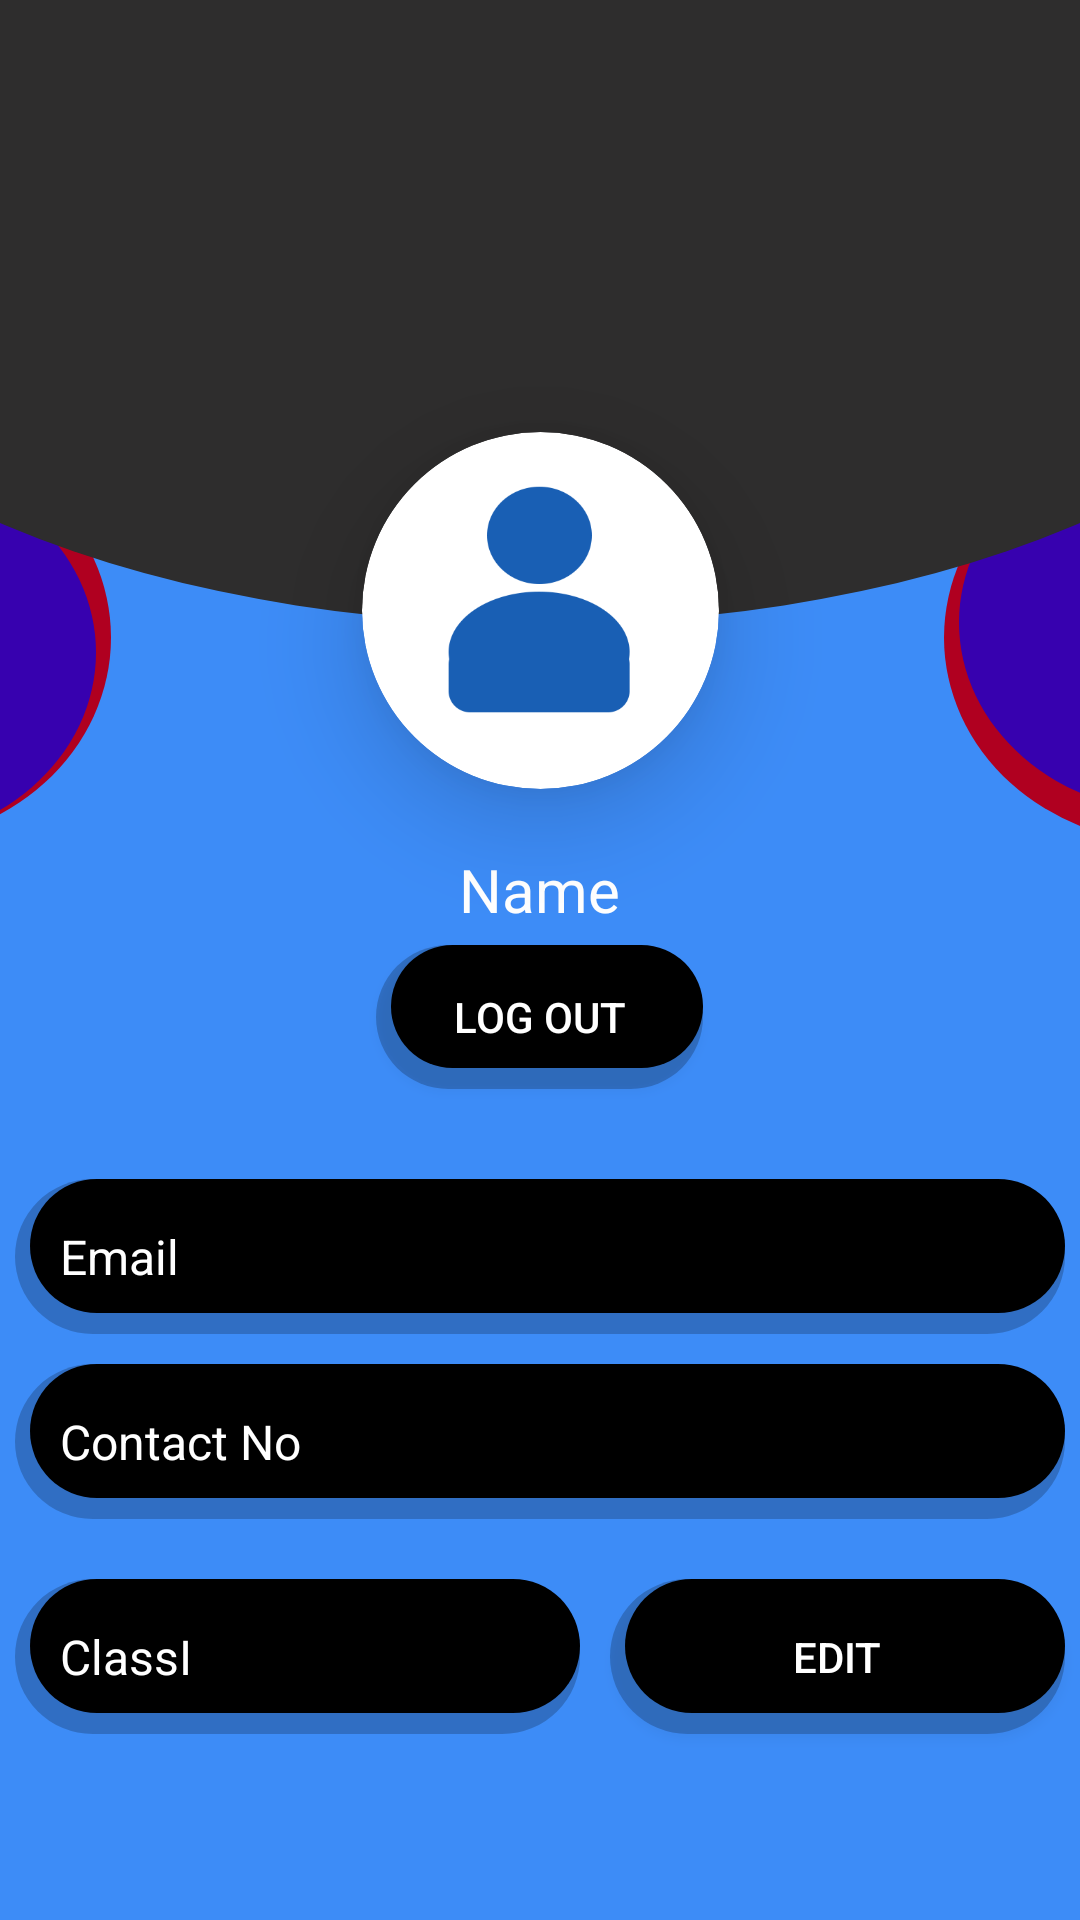

Icons on this 1080 × 1920 Android screen, each with its box as (left=x1, top=y1, right=x2, bottom=y2):
profile pic: (left=448, top=486, right=630, bottom=713)
